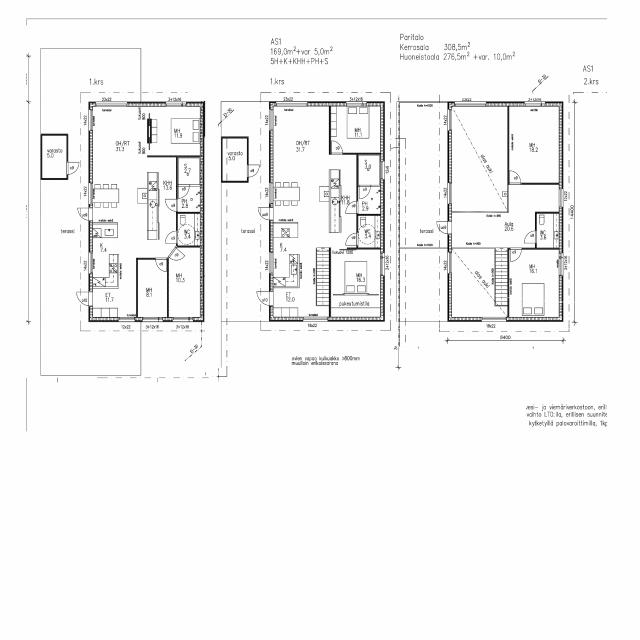door: (168, 247, 185, 265), (256, 292, 273, 305), (77, 292, 93, 305), (436, 222, 452, 234), (78, 208, 93, 220), (258, 208, 273, 220), (511, 247, 522, 262), (165, 231, 178, 243), (165, 199, 178, 211), (247, 165, 260, 177), (178, 184, 189, 198), (510, 170, 521, 184), (67, 162, 79, 174), (346, 201, 358, 213), (346, 233, 358, 245), (524, 231, 536, 243), (332, 140, 342, 154), (360, 185, 370, 199), (156, 258, 166, 271)
